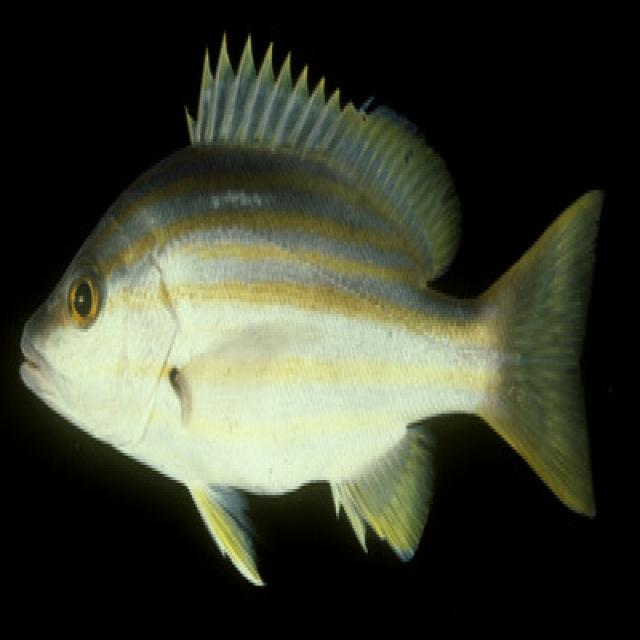ikan: (18, 27, 606, 589)
